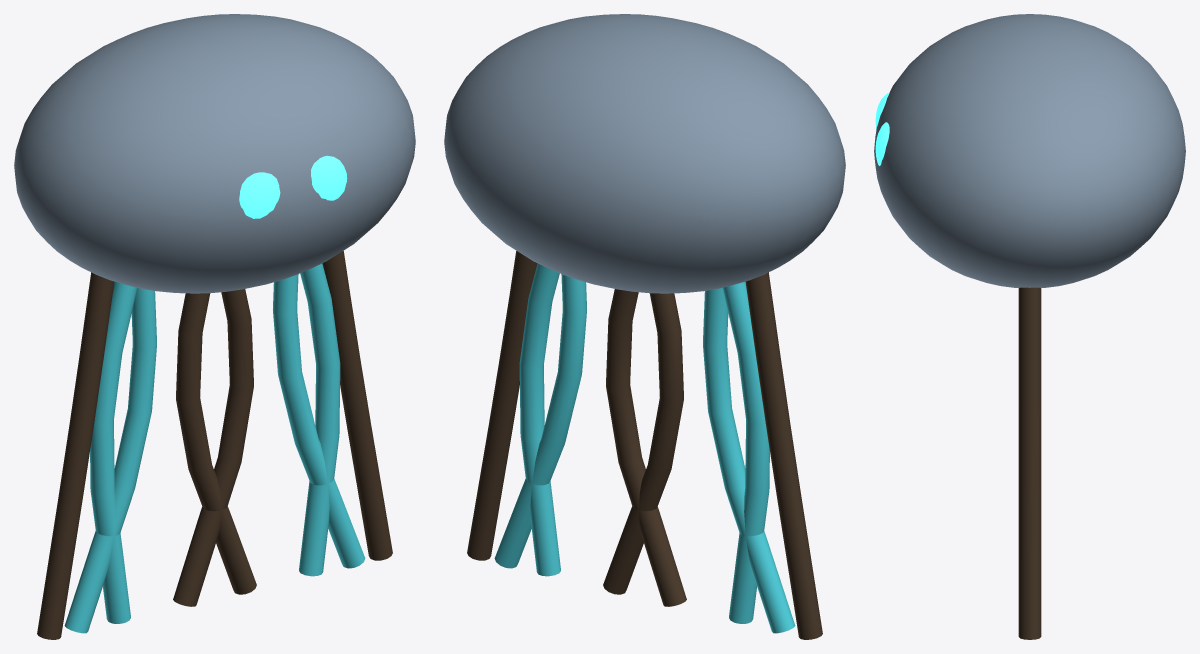
File: aquatic_v7.glb
3 views of the same model, side by side, from view 1: azimuth 30°, elevation 25°; view 2: azimuth 150°, elevation 25°; view 3: azimuth 270°, elevation 25° (orthographic). The views are drawn at different scales.
Visible parts, largest first — view 1: JELLY_DOME_PRIMARY, JELLY_TENTACLE_SECONDARY.002, JELLY_TENTACLE_ACCENT.002, JELLY_TENTACLE_SECONDARY.003, JELLY_TENTACLE_SECONDARY.001, JELLY_TENTACLE_SECONDARY, JELLY_TENTACLE_ACCENT.001, JELLY_TENTACLE_ACCENT.003, JELLY_TENTACLE_ACCENT, EYE_EMISSIVE, EYE_EMISSIVE.001; view 2: JELLY_DOME_PRIMARY, JELLY_TENTACLE_SECONDARY.002, JELLY_TENTACLE_ACCENT.002, JELLY_TENTACLE_SECONDARY.003, JELLY_TENTACLE_SECONDARY.001, JELLY_TENTACLE_SECONDARY, JELLY_TENTACLE_ACCENT.001, JELLY_TENTACLE_ACCENT.003, JELLY_TENTACLE_ACCENT; view 3: JELLY_DOME_PRIMARY, JELLY_TENTACLE_SECONDARY.
Part boxes in pixels (x1,y1,x2,y2): JELLY_DOME_PRIMARY: (14, 14, 415, 293); JELLY_TENTACLE_SECONDARY.002: (37, 272, 114, 639); JELLY_TENTACLE_ACCENT.002: (64, 288, 156, 633); JELLY_TENTACLE_SECONDARY.003: (173, 289, 253, 606); JELLY_TENTACLE_SECONDARY.001: (176, 293, 256, 594); JELLY_TENTACLE_SECONDARY: (322, 251, 392, 560); JELLY_TENTACLE_ACCENT.001: (90, 281, 137, 623); JELLY_TENTACLE_ACCENT.003: (299, 263, 340, 576); JELLY_TENTACLE_ACCENT: (273, 274, 365, 568); EYE_EMISSIVE: (239, 172, 280, 218); EYE_EMISSIVE.001: (311, 155, 347, 200); JELLY_DOME_PRIMARY: (444, 14, 845, 293); JELLY_TENTACLE_SECONDARY.002: (745, 272, 822, 639); JELLY_TENTACLE_ACCENT.002: (703, 288, 795, 633); JELLY_TENTACLE_SECONDARY.003: (606, 289, 686, 606); JELLY_TENTACLE_SECONDARY.001: (603, 293, 683, 594); JELLY_TENTACLE_SECONDARY: (467, 251, 537, 560); JELLY_TENTACLE_ACCENT.001: (722, 281, 769, 623); JELLY_TENTACLE_ACCENT.003: (519, 263, 560, 576); JELLY_TENTACLE_ACCENT: (494, 274, 586, 568); JELLY_DOME_PRIMARY: (874, 14, 1185, 287); JELLY_TENTACLE_SECONDARY: (1018, 287, 1041, 639).
Size of the model in its own units: 1.22 by 1.79 by 0.9672.
